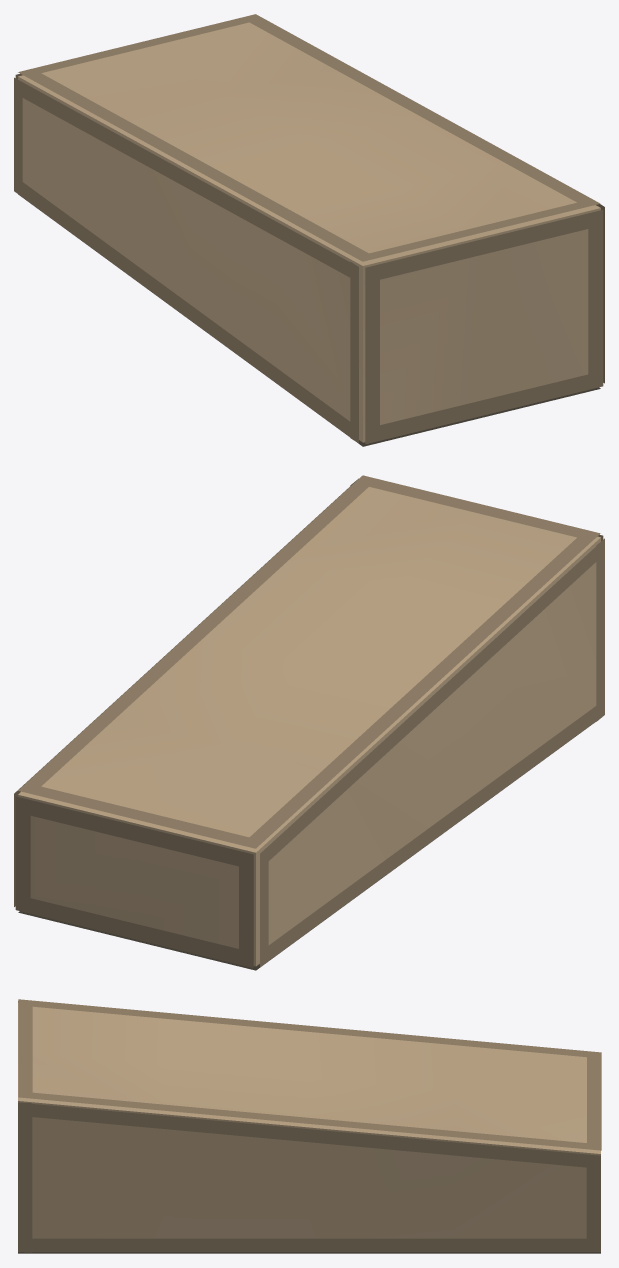
The model's file is key-3.glb.
3 renders of one model, top to bottom at view 1: azimuth 30°, elevation 25°; view 2: azimuth 150°, elevation 25°; view 3: azimuth 270°, elevation 25°, orthographic. The views are drawn at different scales.
Parts seen in each view (by area): view 1: key-3; view 2: key-3; view 3: key-3.
Boxes of the visible parts, left/top/right/bottom form: key-3: left=14, top=14, right=604, bottom=446; key-3: left=14, top=475, right=604, bottom=970; key-3: left=18, top=999, right=601, bottom=1253.
Bounding box in the file's own units: 0.0248 × 0.0178 × 0.061.
